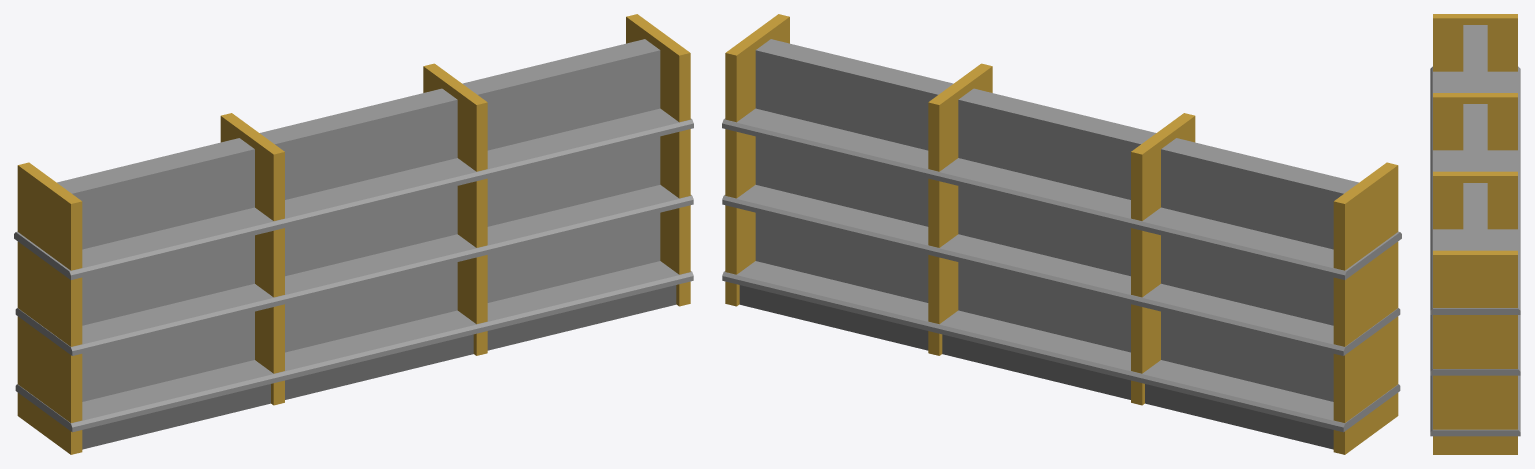
The model's file is Shelf2.fbx.
3 renders of one model, left to right at view 1: azimuth 30°, elevation 25°; view 2: azimuth 150°, elevation 25°; view 3: azimuth 270°, elevation 25°, orthographic. The views are drawn at different scales.
Parts seen in each view (by area): view 1: Base.001; view 2: Base.001; view 3: Base.001.
Boxes of the visible parts, x1,y1,x2,y2 form: Base.001: (14, 14, 693, 454); Base.001: (722, 14, 1401, 454); Base.001: (1430, 14, 1520, 454).
Size of the model in its own units: 807 by 311 by 127.
